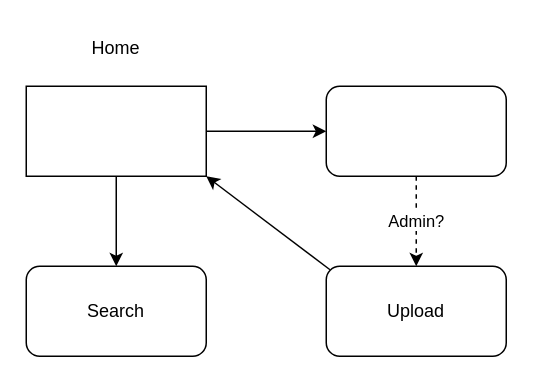
This 533x383 diagram has some shape labels left out. The shapes that lost their labels are listed below. From the top down, each one's centre as x and y in pixels, then its label:
At pixel 115 130: "Browse".
At pixel 415 130: "Login".
